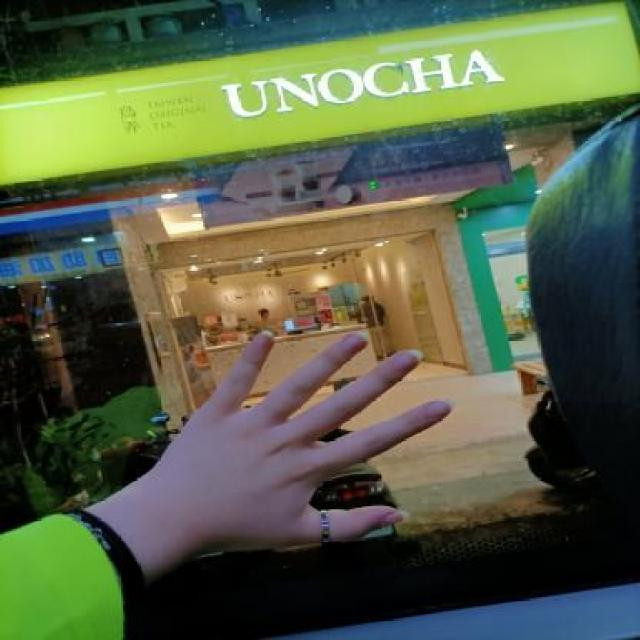hand: (148, 314, 468, 574)
